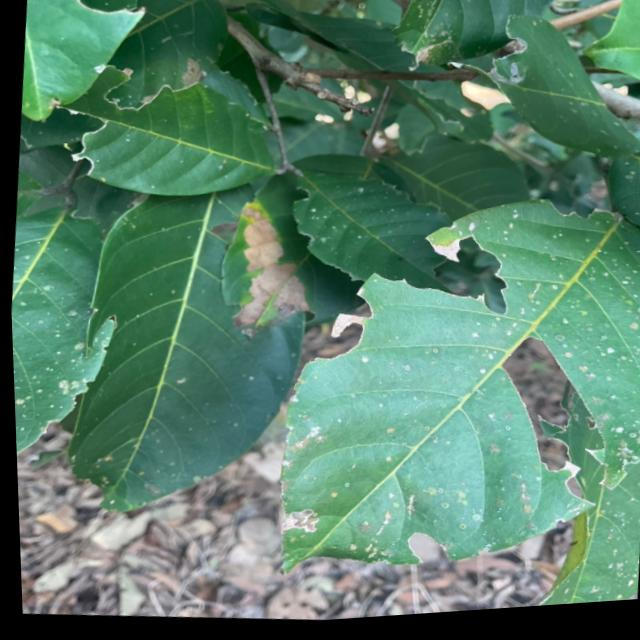Algal Leaf Spot: (6, 207, 162, 488), (469, 200, 640, 454)
